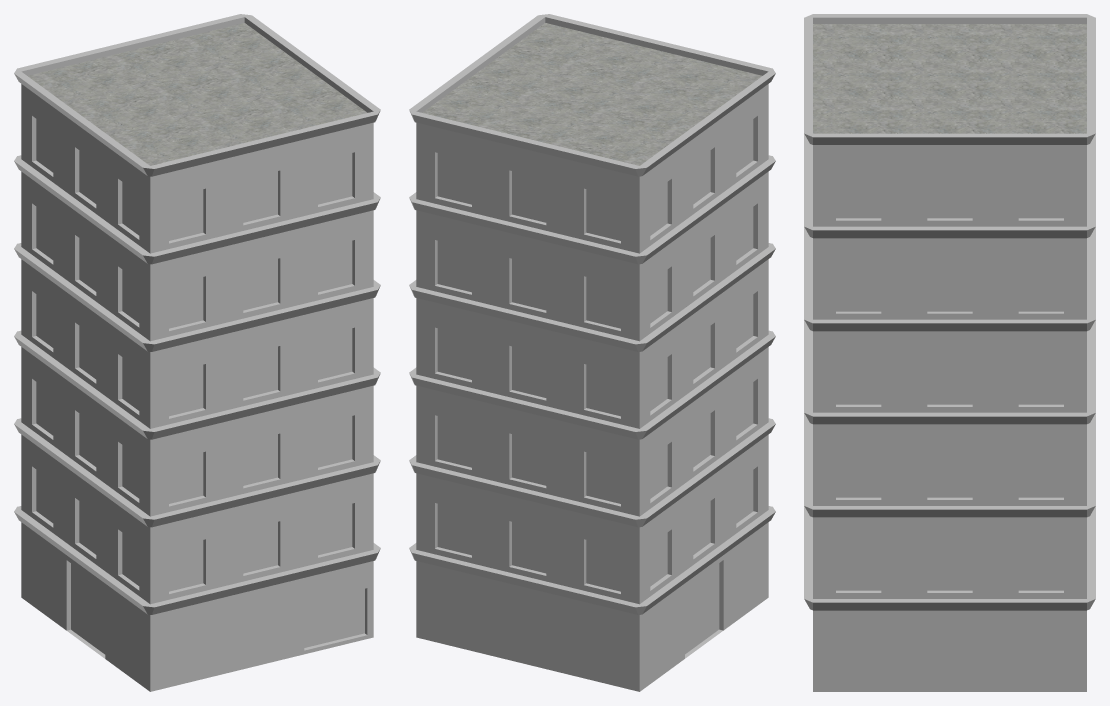
Rendered from RV_Building_Type_C_00.fbx.
The picture shows the model from 3 angles, left to right: view 1: azimuth 30°, elevation 25°; view 2: azimuth 150°, elevation 25°; view 3: azimuth 270°, elevation 25°; orthographic projection. The views are drawn at different scales.
Visible parts, largest first — view 1: RV_Building_Type_C_00; view 2: RV_Building_Type_C_00; view 3: RV_Building_Type_C_00.
Boxes of the visible parts, box(x1,y1,x2,y2) form: RV_Building_Type_C_00: box(14, 14, 380, 691); RV_Building_Type_C_00: box(409, 14, 775, 691); RV_Building_Type_C_00: box(804, 14, 1095, 691).
Size of the model in its own units: 818 by 1728 by 818.
